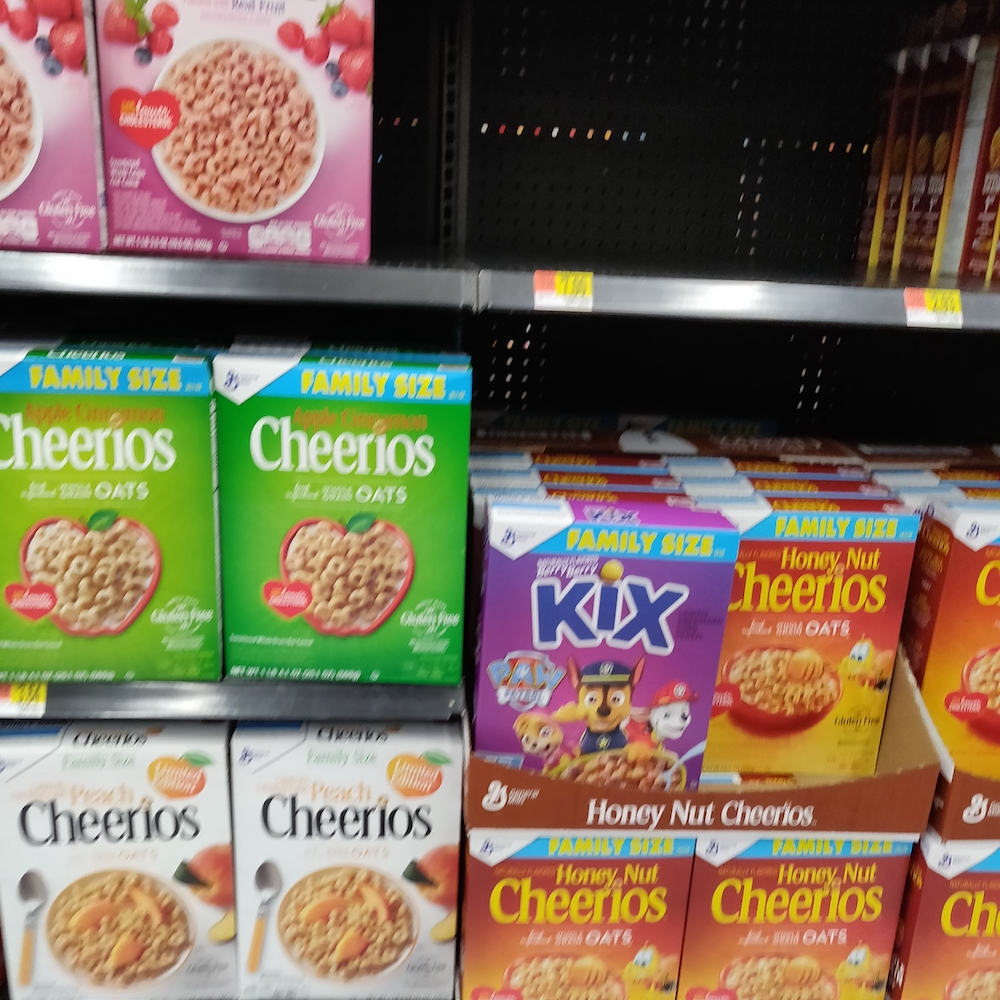Kix Berry -568919964: (482, 514, 706, 795)
